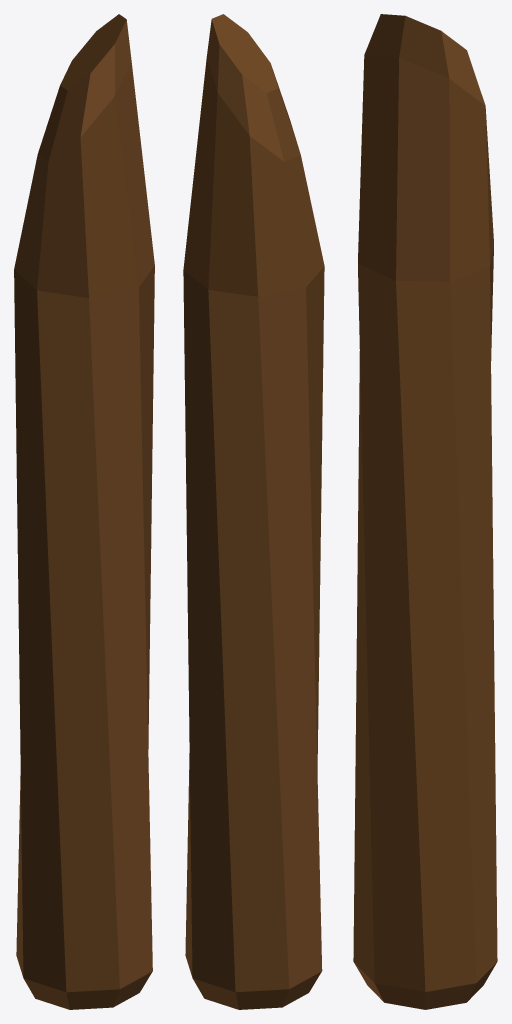
File: E_B_FenceC.fbx
3 views of the same model, side by side, from view 1: azimuth 30°, elevation 25°; view 2: azimuth 210°, elevation 25°; view 3: azimuth 270°, elevation 25° (orthographic).
Visible parts, largest first — view 1: E_B_FenceC; view 2: E_B_FenceC; view 3: E_B_FenceC.
Boxes of the visible parts, box(x1,y1,x2,y2) form: E_B_FenceC: box(14, 14, 154, 1009); E_B_FenceC: box(183, 14, 324, 1009); E_B_FenceC: box(353, 14, 497, 1009).
Bounding box in the file's own units: 54.51 × 412 × 54.51.
